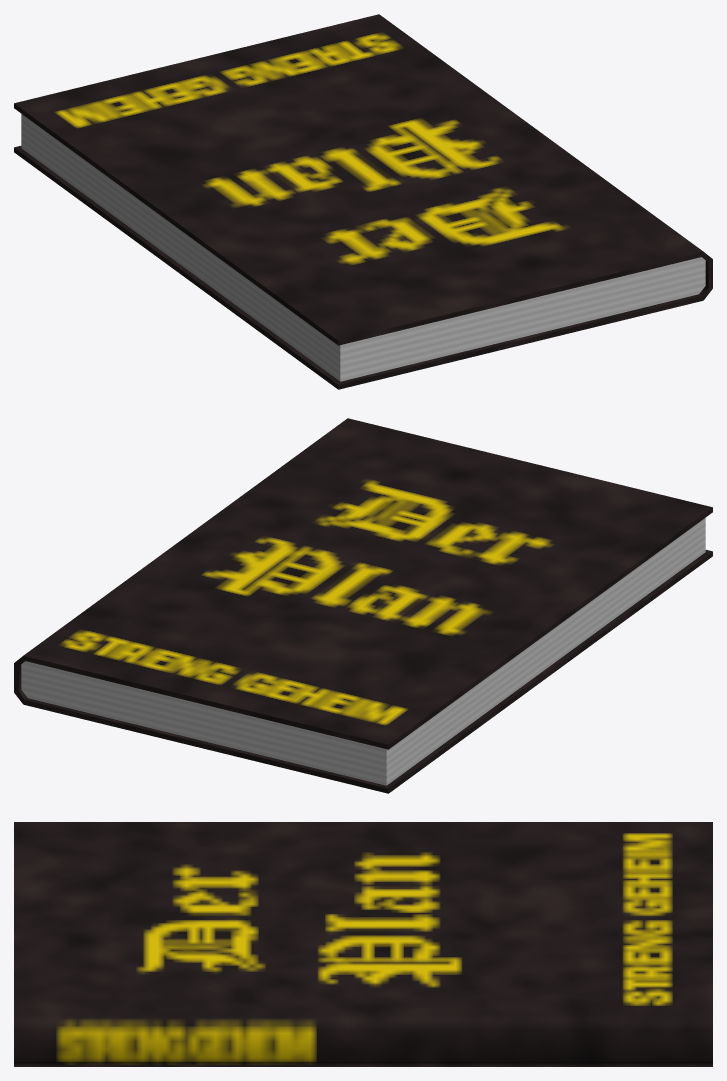
File: secretPlans.fbx
The picture shows the model from 3 angles, top to bottom: view 1: azimuth 30°, elevation 25°; view 2: azimuth 150°, elevation 25°; view 3: azimuth 270°, elevation 25°; orthographic projection. The views are drawn at different scales.
Parts seen in each view (by area): view 1: book; view 2: book; view 3: book.
Part boxes in pixels (x1,y1,x2,y2): book: (14,14,712,389); book: (14,418,712,793); book: (14,822,712,1066).
Bounding box in the file's own units: 2 × 0.25 × 3.
Materials: 1 (1 with a texture image).
